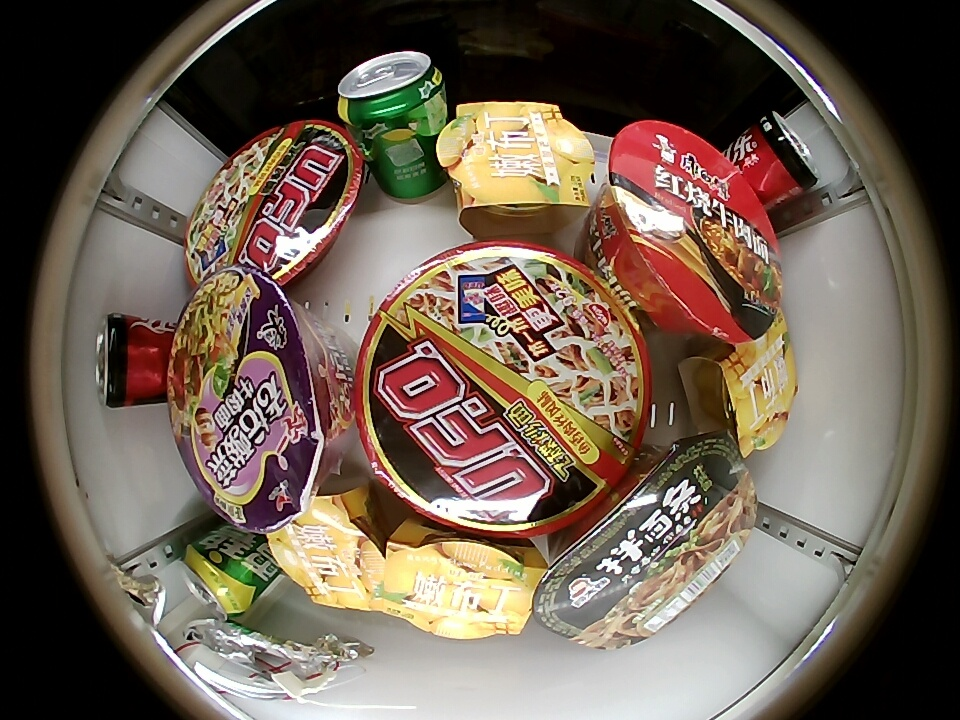buding: (436, 102, 595, 218), (381, 531, 539, 639), (266, 488, 391, 611), (692, 312, 798, 455)
gudasao: (531, 432, 757, 652)
hongshaoniurou: (597, 120, 783, 345)
laotansuancai: (170, 267, 341, 534)
lingdukele: (744, 110, 820, 204), (95, 312, 154, 408)
ufo2: (353, 239, 652, 537), (184, 121, 364, 286)
xuebi2: (336, 51, 445, 126), (180, 536, 252, 620)
